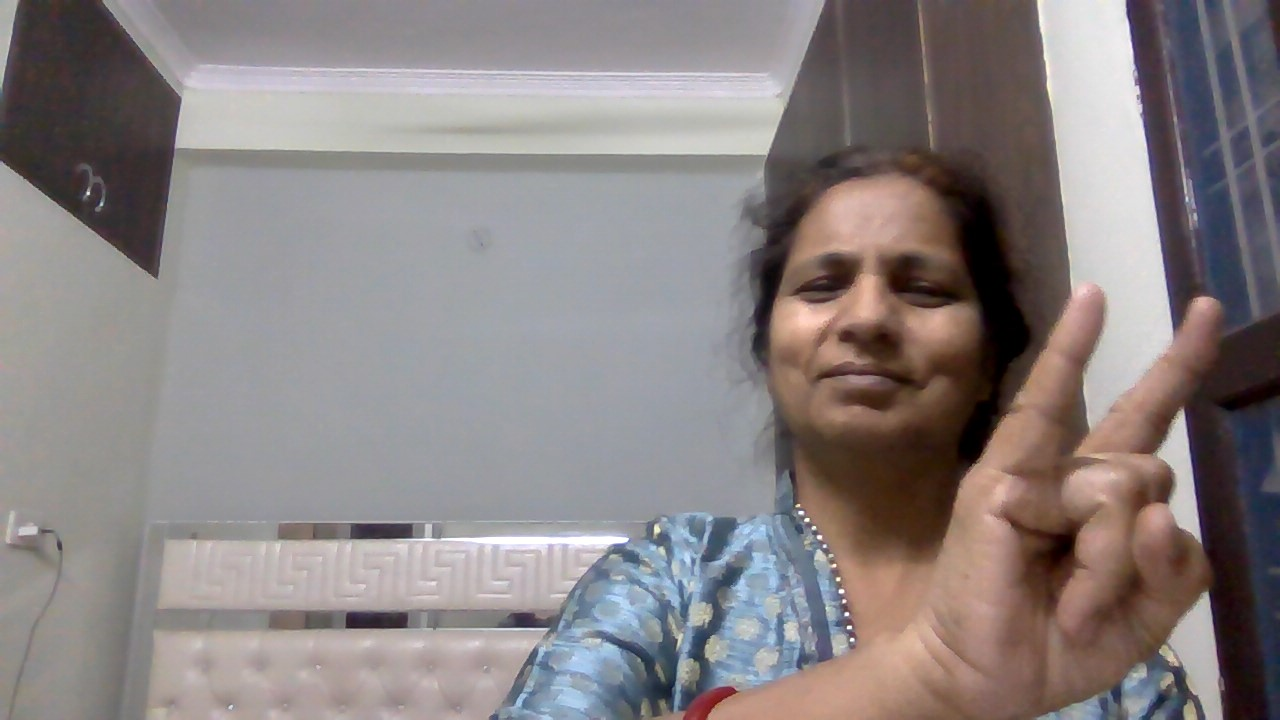Select All: (924, 270, 1240, 711)
